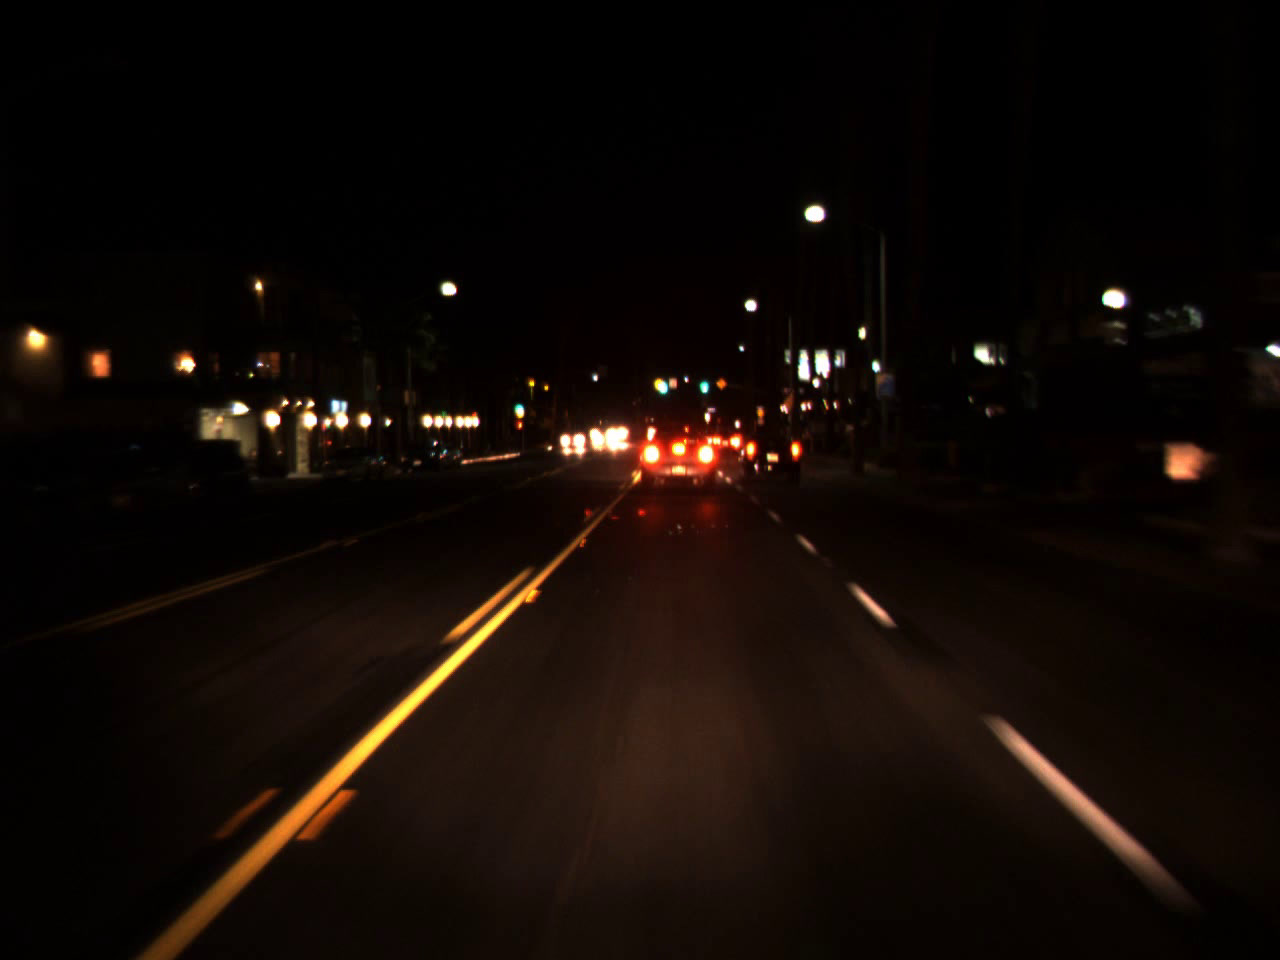go: (696, 365, 710, 398), (658, 367, 667, 397), (512, 397, 524, 412)
